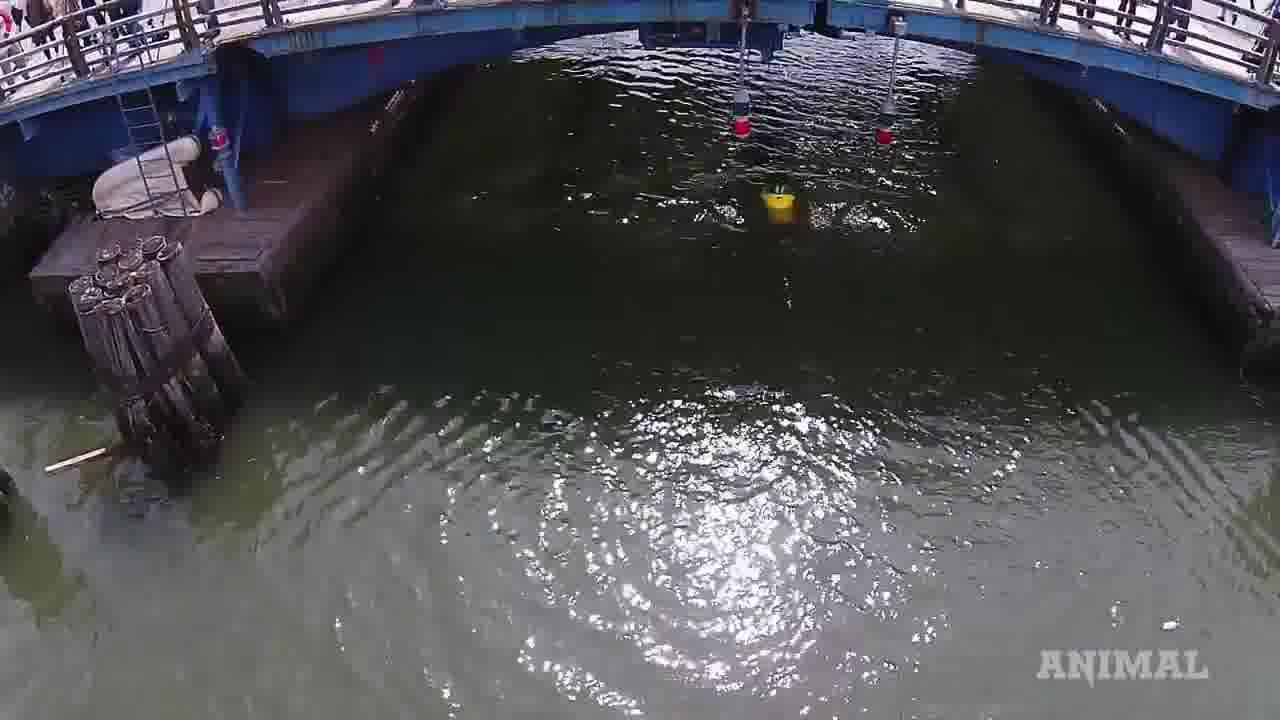swimmer: (752, 171, 803, 219)
